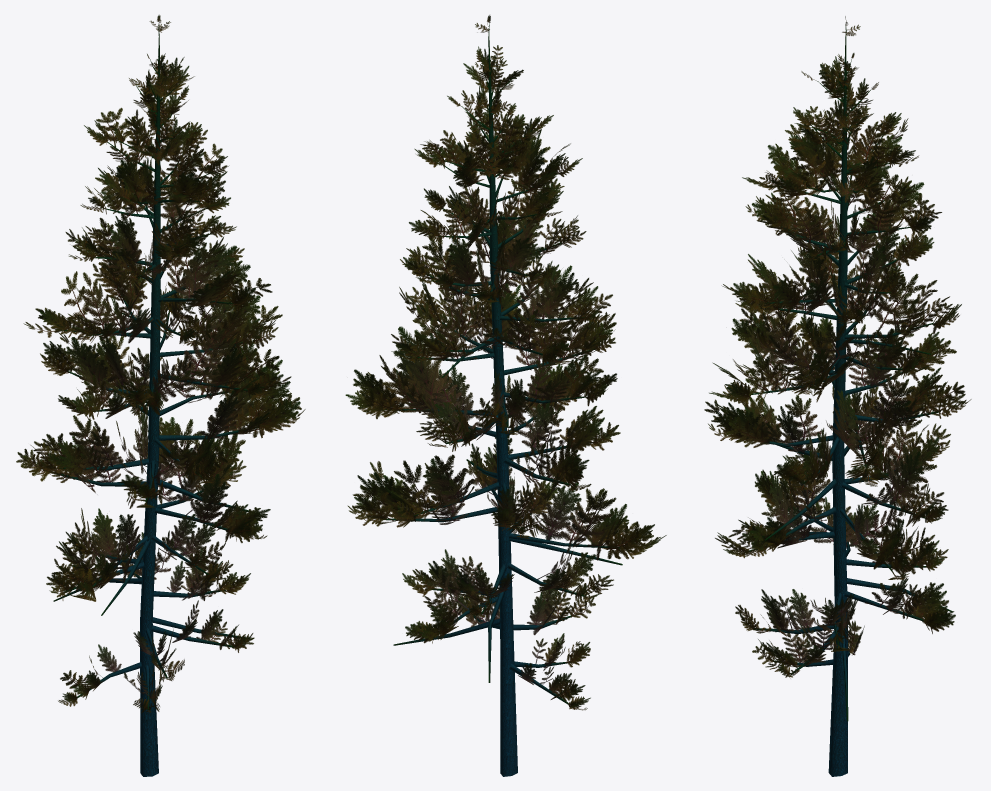
Rendered from Douglas_Fir_D.glb.
The picture shows the model from 3 angles, left to right: view 1: azimuth 30°, elevation 25°; view 2: azimuth 150°, elevation 25°; view 3: azimuth 270°, elevation 25°; orthographic projection.
Parts seen in each view (by area): view 1: D_LOD0; view 2: D_LOD0; view 3: D_LOD0.
Part boxes in pixels (<box>): D_LOD0: <box>16,15,305,776</box>; D_LOD0: <box>345,15,666,776</box>; D_LOD0: <box>704,16,971,776</box>.
Size of what is drawn, in the model's own units: 5.07 by 13.42 by 4.43.
Materials: 2 (2 with a texture image).
